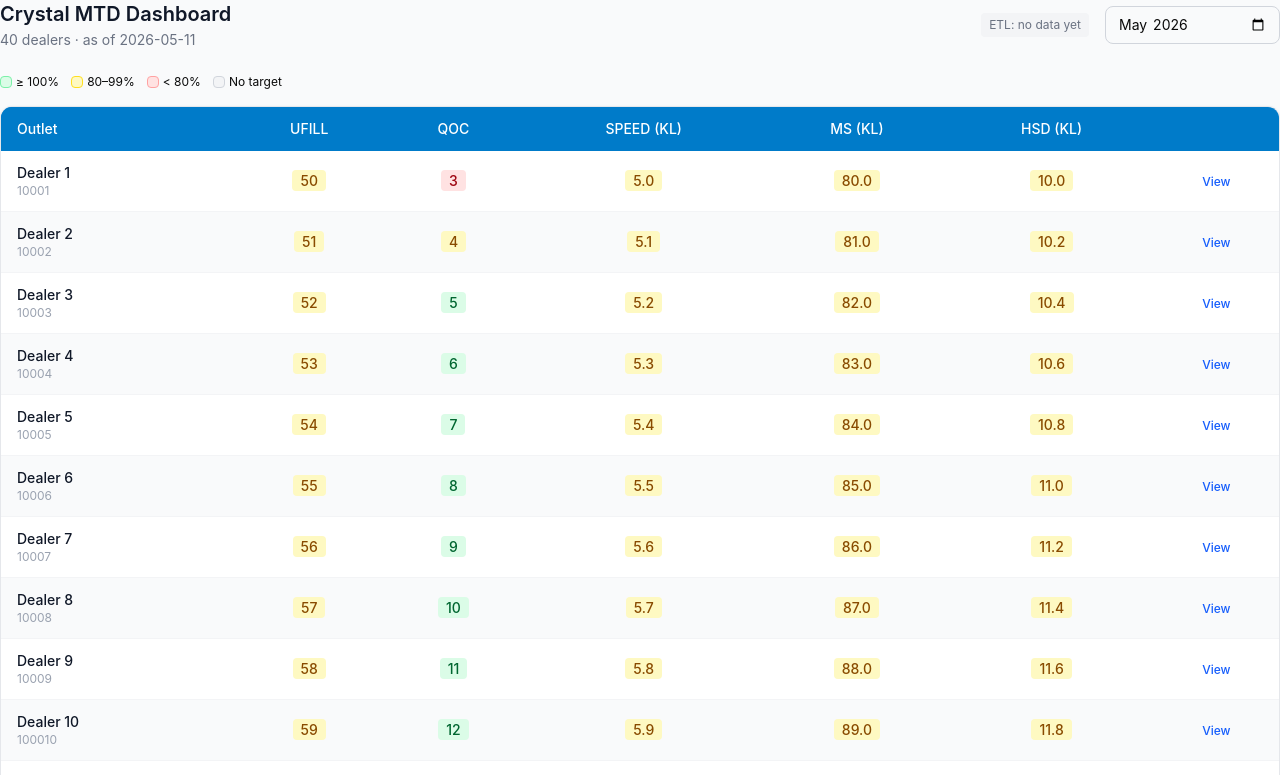
CrystalDashboard › opens report card modal on row click
Click the text "Dealer 1" at (44,172), box 17,164 -> 70,181
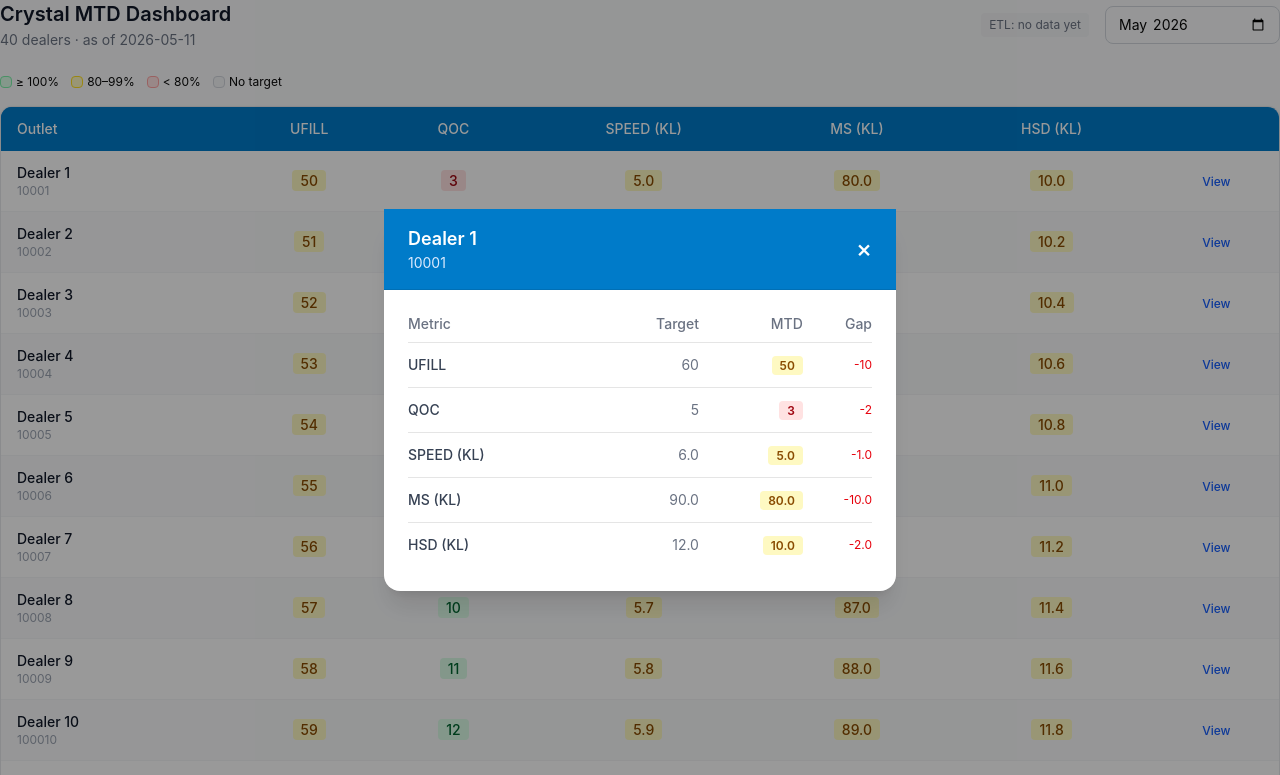
Result: the column heading "Target" is shown at 595,314 -> 699,342
Result: the column heading "MTD" is shown at 699,314 -> 803,342
